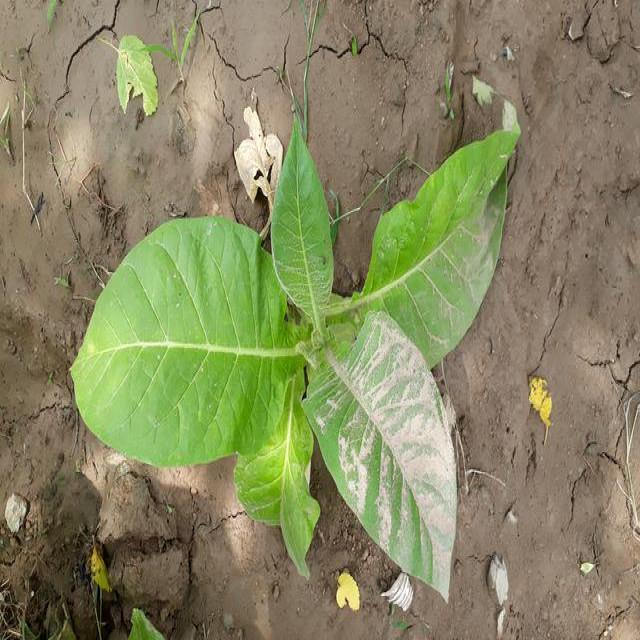crop: (58, 108, 515, 601)
